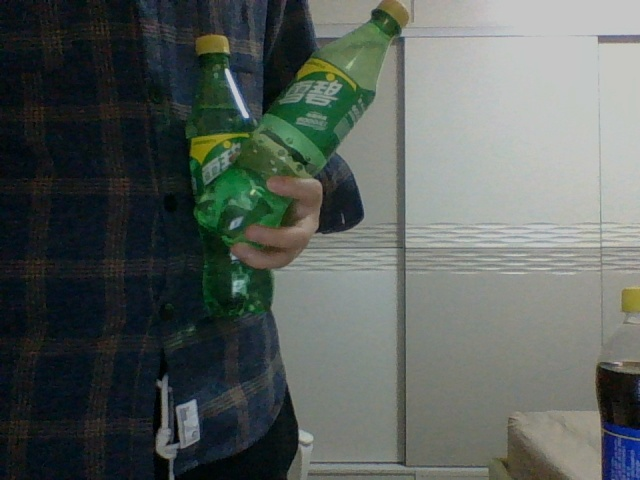Sprite: (195, 1, 407, 244), (187, 34, 273, 319)
